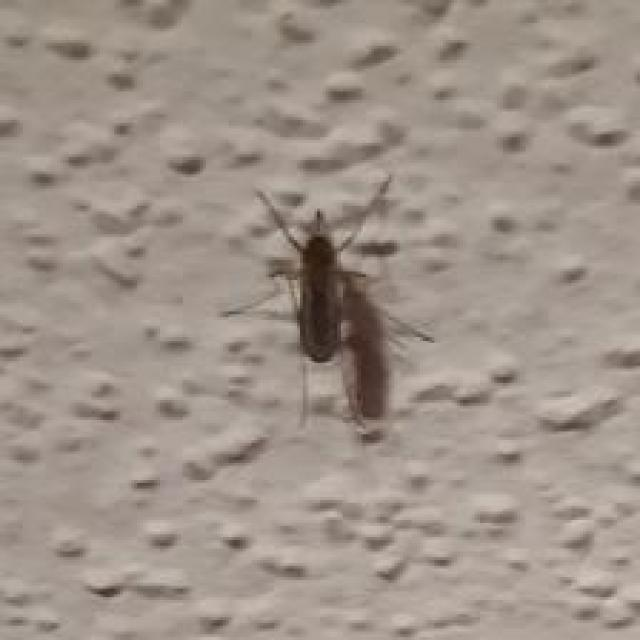Culex: (221, 171, 436, 443)
